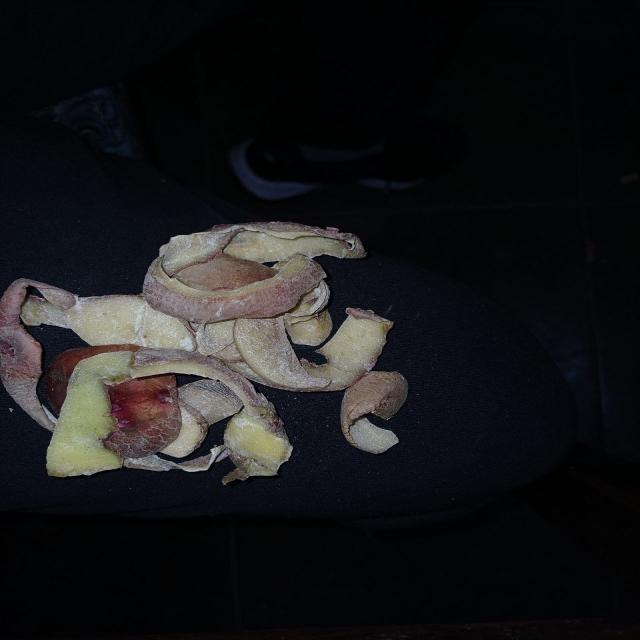organic: (4, 222, 408, 485)
